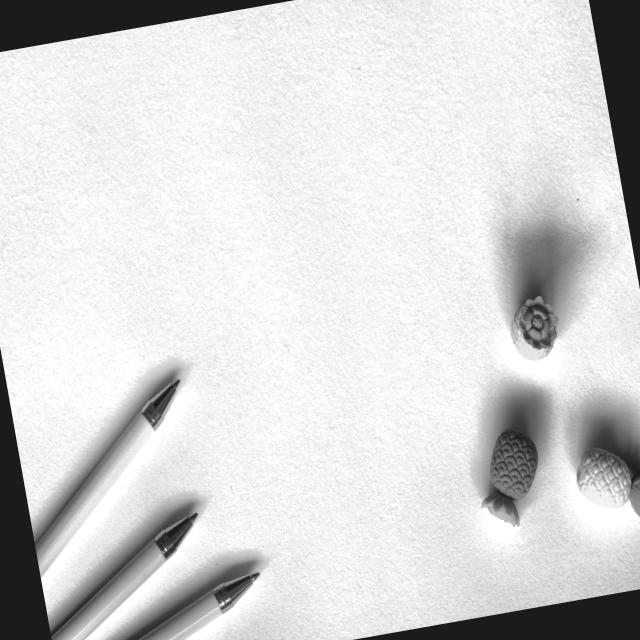Pen: (9, 371, 212, 584), (33, 504, 220, 640), (44, 558, 275, 640)
